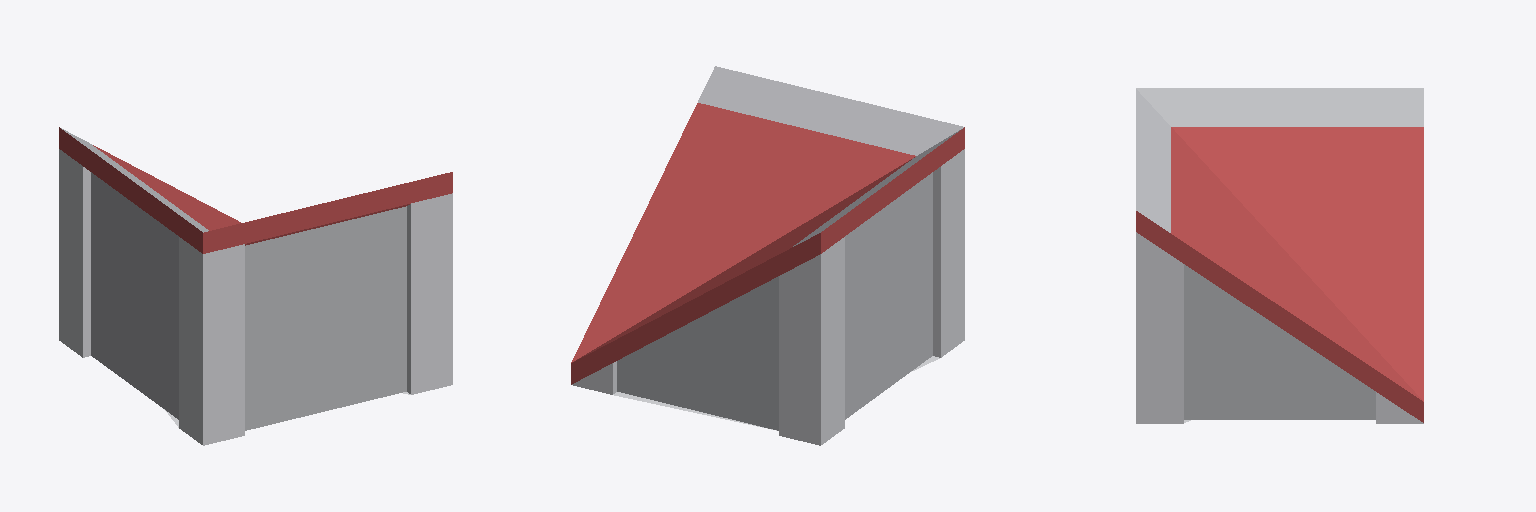
Rendered from Roof_Inner_Corner_Red_01.obj.
3 views of the same model, side by side, from view 1: azimuth 30°, elevation 25°; view 2: azimuth 150°, elevation 25°; view 3: azimuth 270°, elevation 25° (orthographic).
Parts seen in each view (by area): view 1: Mesh1 Roof_Inner_Corner_Red Model; view 2: Mesh1 Roof_Inner_Corner_Red Model; view 3: Mesh1 Roof_Inner_Corner_Red Model.
Part boxes in pixels (x1,y1,x2,y2): Mesh1 Roof_Inner_Corner_Red Model: (59,127,452,445); Mesh1 Roof_Inner_Corner_Red Model: (571,66,964,445); Mesh1 Roof_Inner_Corner_Red Model: (1136,88,1423,423).
Bounding box in the file's own units: 3 × 2.45 × 3.